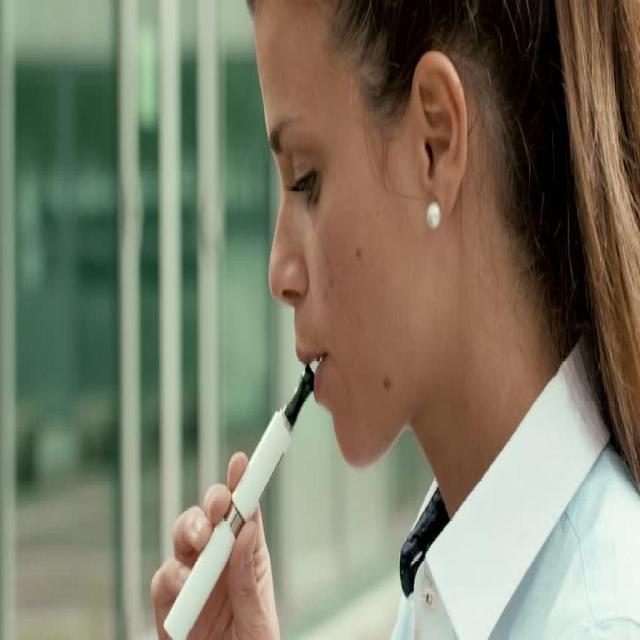smoking: (162, 0, 549, 638)
